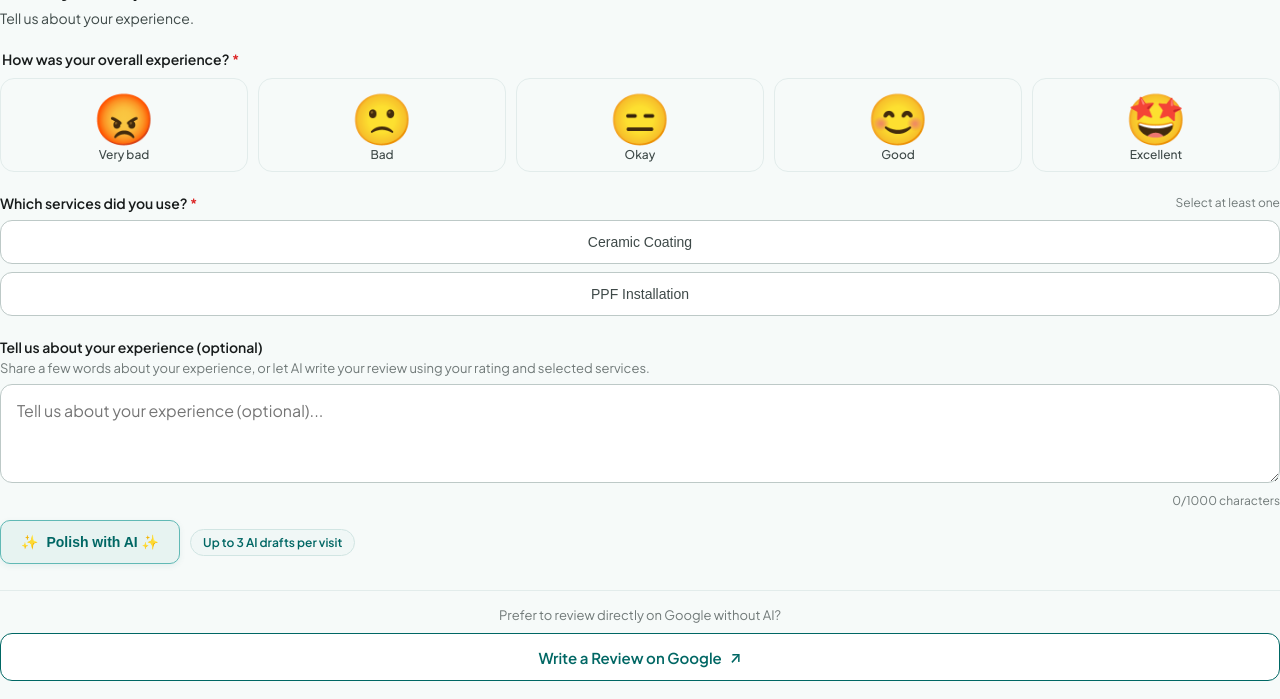
Test: CustomerReviewFlow Component (Unified Review Journey) › 8. should allow AI polish when a service is selected and clear validation error
Click the radio button with test id "star-5".
click(1156, 125)  # box [1032, 78, 1279, 172]
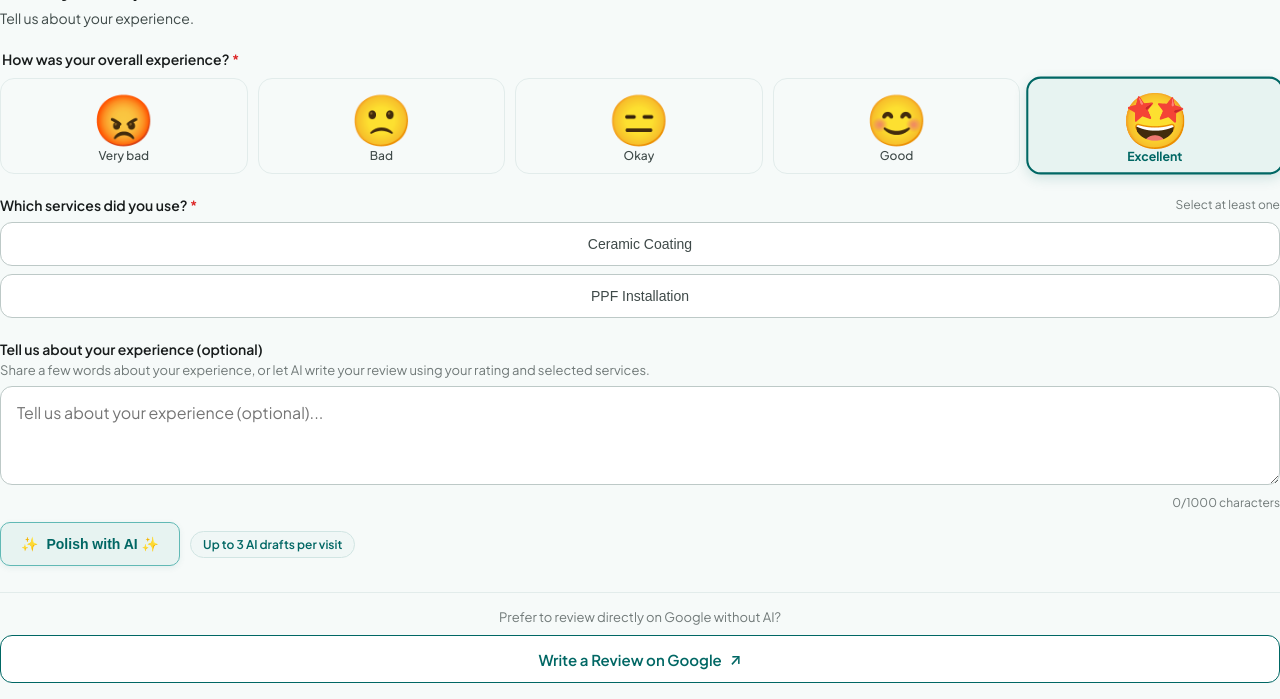
Type "Outstanding service and friendly staff!" into the text box with placeholder "Tell us about your experience (optional)...".
click(640, 436); type("Outstanding service and friendly staff!")  # box [0, 386, 1279, 485]
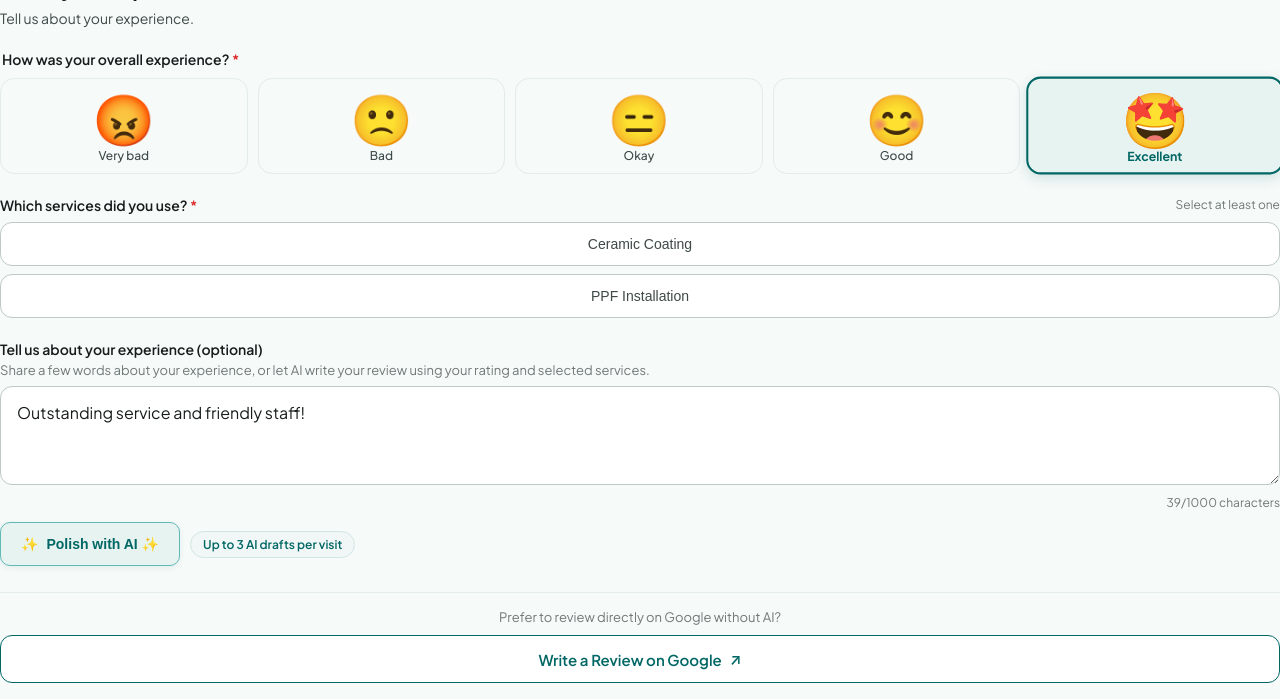
# Select service
Click the button "Ceramic Coating".
click(640, 244)  # box [0, 222, 1279, 266]
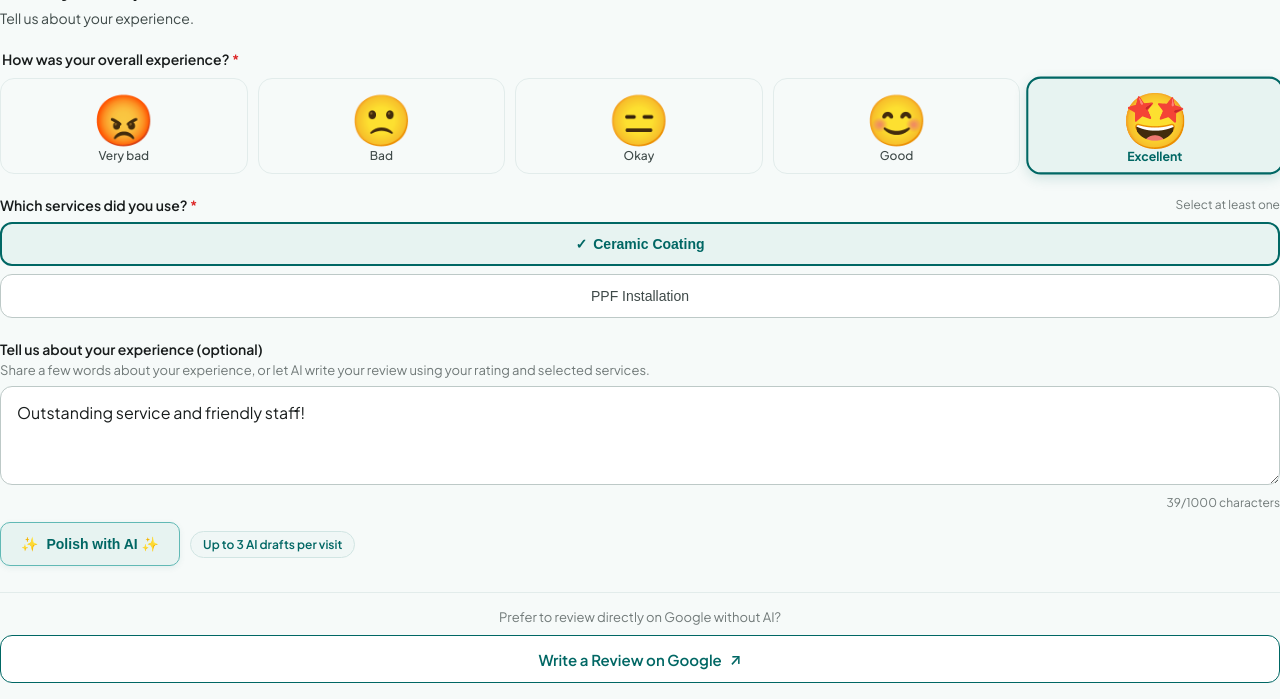
# Polish with AI
Click the button "✨ Polish with AI ✨".
click(90, 544)  # box [0, 522, 180, 566]
(page scrolled)
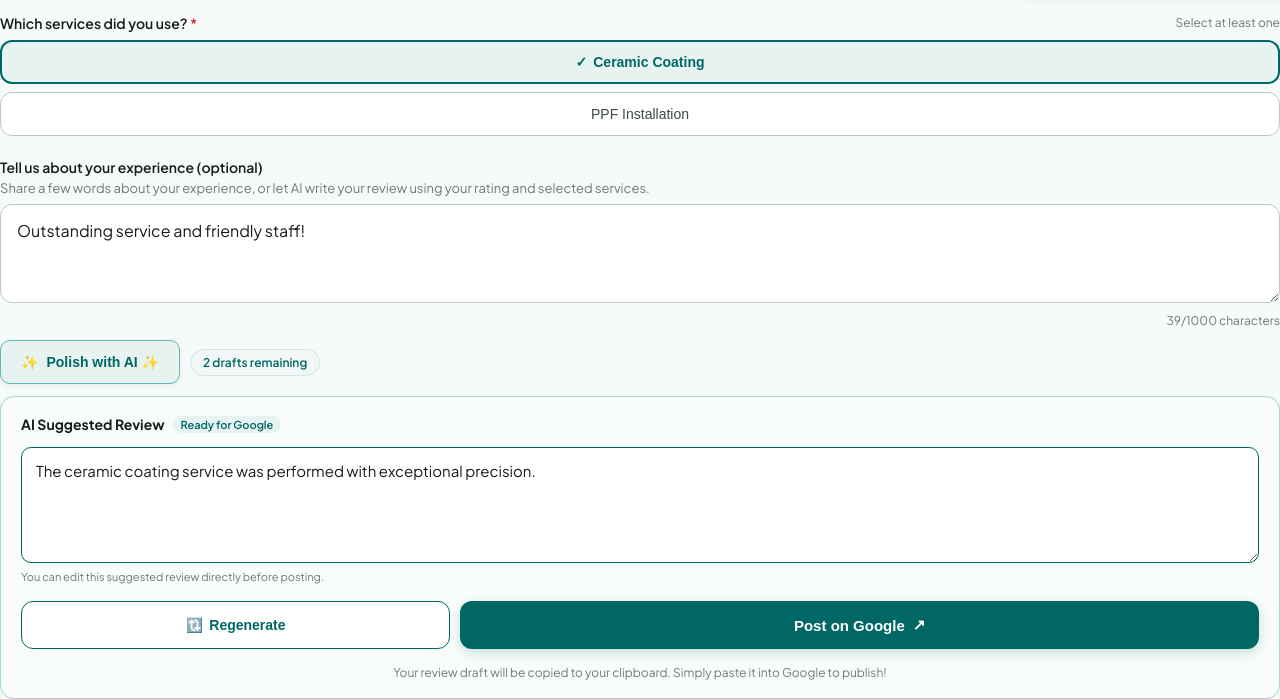
Now the element with test id "ai-draft-card" is shown, box [0, 396, 1279, 698]
Now the button with test id "ai-regenerate-button" is shown, box [21, 601, 450, 649]
Now the button with test id "post-to-google-button" is shown, box [460, 601, 1259, 649]
